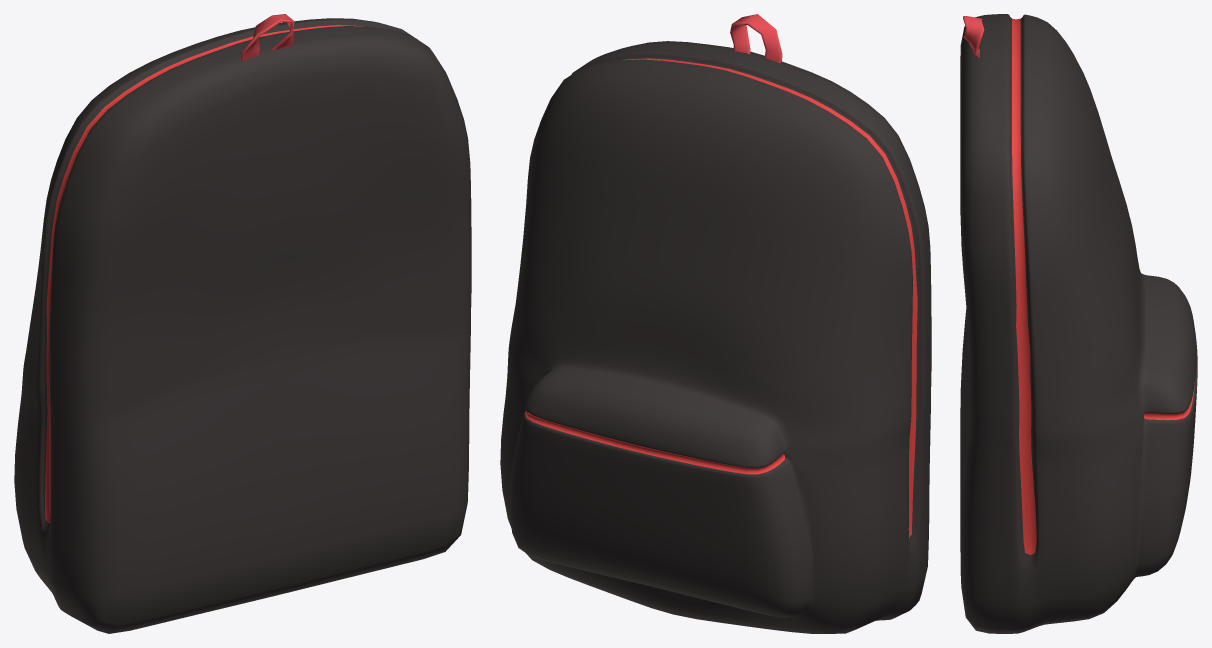
File: NPC E Canta.fbx
3 views of the same model, side by side, from view 1: azimuth 30°, elevation 25°; view 2: azimuth 150°, elevation 25°; view 3: azimuth 270°, elevation 25° (orthographic). The views are drawn at different scales.
Visible parts, largest first — view 1: NPC E Canta; view 2: NPC E Canta; view 3: NPC E Canta.
Boxes of the visible parts, <box> form: NPC E Canta: <box>14,14,471,633</box>; NPC E Canta: <box>500,14,931,633</box>; NPC E Canta: <box>960,14,1197,633</box>.
Size of the model in its own units: 44.17 by 59.43 by 23.67.
